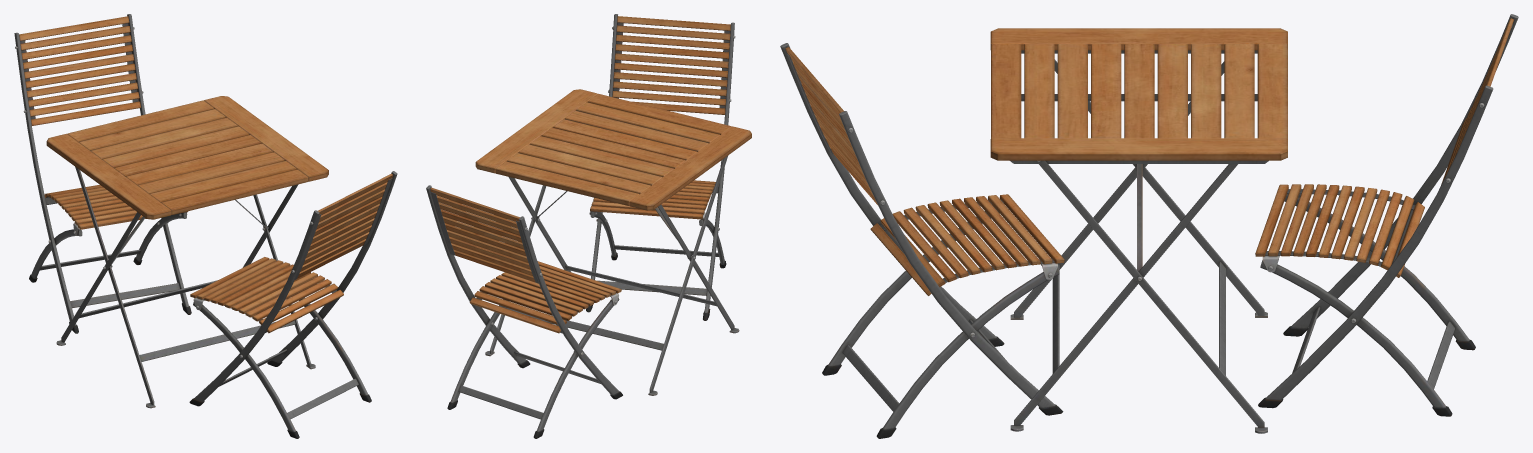
File: table-and-chairs.glb
3 renders of one model, left to right at view 1: azimuth 30°, elevation 25°; view 2: azimuth 150°, elevation 25°; view 3: azimuth 270°, elevation 25°, orthographic. The views are drawn at different scales.
Visible parts, largest first — view 1: outdoor_table_chair_set_01_table, outdoor_table_chair_set_01_chair_02, outdoor_table_chair_set_01_chair_01; view 2: outdoor_table_chair_set_01_table, outdoor_table_chair_set_01_chair_02, outdoor_table_chair_set_01_chair_01; view 3: outdoor_table_chair_set_01_table, outdoor_table_chair_set_01_chair_01, outdoor_table_chair_set_01_chair_02.
Boxes of the visible parts, x1=… form: outdoor_table_chair_set_01_table: x1=46, y1=96, x2=328, y2=408; outdoor_table_chair_set_01_chair_02: x1=14, y1=14, x2=191, y2=333; outdoor_table_chair_set_01_chair_01: x1=189, y1=171, x2=397, y2=438; outdoor_table_chair_set_01_table: x1=475, y1=89, x2=751, y2=395; outdoor_table_chair_set_01_chair_02: x1=426, y1=185, x2=622, y2=438; outdoor_table_chair_set_01_chair_01: x1=586, y1=14, x2=735, y2=320; outdoor_table_chair_set_01_table: x1=990, y1=28, x2=1287, y2=433; outdoor_table_chair_set_01_chair_01: x1=780, y1=43, x2=1064, y2=438; outdoor_table_chair_set_01_chair_02: x1=1255, y1=14, x2=1518, y2=416.
Size of the model in its own units: 0.7417 by 0.8586 by 1.72.
Materials: 2 (2 with a texture image).
